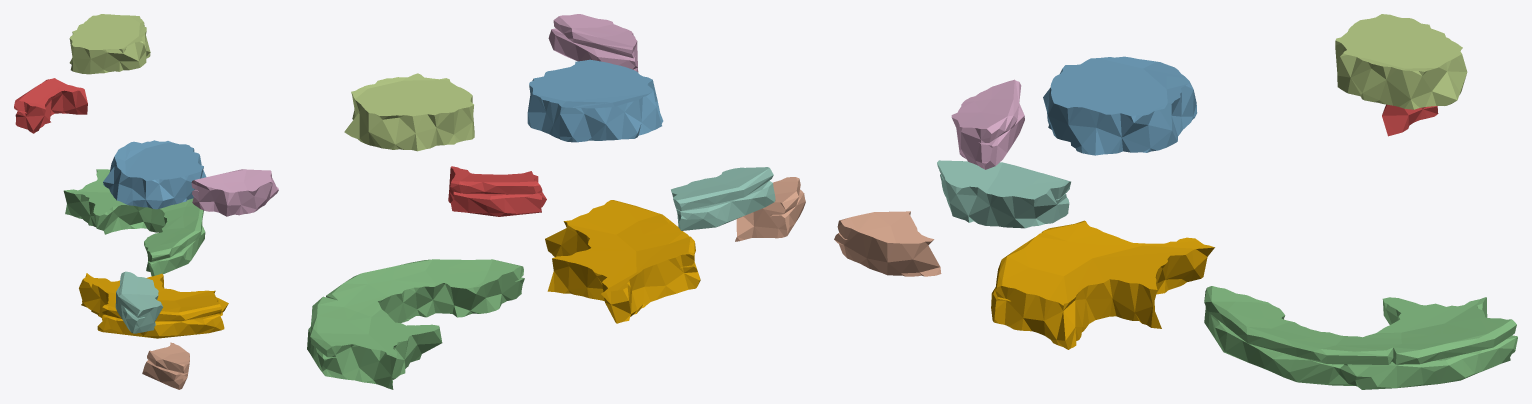
The model's file is mode_8_8pcs_transformed.glb.
The picture shows the model from 3 angles, left to right: view 1: azimuth 30°, elevation 25°; view 2: azimuth 150°, elevation 25°; view 3: azimuth 270°, elevation 25°; orthographic projection. The views are drawn at different scales.
Parts seen in each view (by area): view 1: piece_3.obj, piece_2.obj, piece_0.obj, piece_5.obj, piece_6.obj, piece_1.obj, piece_4.obj, piece_7.obj; view 2: piece_3.obj, piece_0.obj, piece_2.obj, piece_5.obj, piece_4.obj, piece_1.obj, piece_6.obj, piece_7.obj; view 3: piece_3.obj, piece_0.obj, piece_2.obj, piece_5.obj, piece_4.obj, piece_7.obj, piece_6.obj, piece_1.obj.
Boxes of the visible parts, box(x1,y1,x2,y2) form: piece_3.obj: box(63, 169, 205, 276); piece_2.obj: box(103, 140, 206, 209); piece_0.obj: box(79, 273, 228, 338); piece_5.obj: box(69, 14, 150, 74); piece_6.obj: box(191, 169, 278, 216); piece_1.obj: box(14, 78, 87, 133); piece_4.obj: box(115, 271, 162, 333); piece_7.obj: box(142, 342, 189, 389); piece_3.obj: box(307, 259, 524, 389); piece_0.obj: box(545, 200, 700, 323); piece_2.obj: box(527, 59, 663, 142); piece_5.obj: box(344, 73, 474, 151); piece_4.obj: box(671, 167, 775, 230); piece_1.obj: box(448, 166, 546, 216); piece_6.obj: box(548, 14, 638, 72); piece_7.obj: box(735, 177, 805, 241); piece_3.obj: box(1204, 286, 1517, 389); piece_0.obj: box(991, 220, 1214, 349); piece_2.obj: box(1043, 56, 1197, 155); piece_5.obj: box(1335, 14, 1467, 109); piece_4.obj: box(937, 160, 1070, 228); piece_7.obj: box(834, 211, 941, 276); piece_6.obj: box(951, 79, 1024, 169); piece_1.obj: box(1382, 104, 1438, 136).
Size of the model in its own units: 1 by 0.9603 by 1.95.
